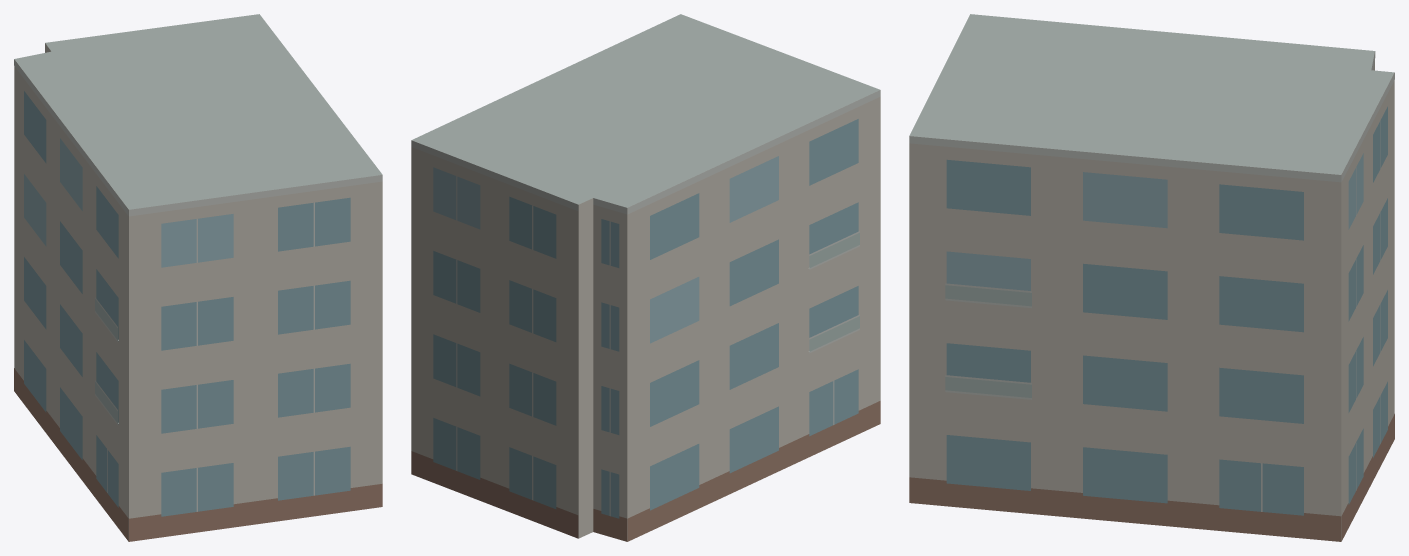
The model's file is survey-upis-32767740.glb.
The picture shows the model from 3 angles, left to right: view 1: azimuth 30°, elevation 25°; view 2: azimuth 150°, elevation 25°; view 3: azimuth 270°, elevation 25°; orthographic projection. The views are drawn at different scales.
Parts seen in each view (by area): view 1: survey-upis-32767740.tmp; view 2: survey-upis-32767740.tmp; view 3: survey-upis-32767740.tmp.
Part boxes in pixels (left/top/right/bottom): survey-upis-32767740.tmp: left=14, top=14, right=382, bottom=541; survey-upis-32767740.tmp: left=411, top=14, right=880, bottom=541; survey-upis-32767740.tmp: left=909, top=14, right=1394, bottom=541.
Bounding box in the file's own units: 11.49 × 12.2 × 14.64.
